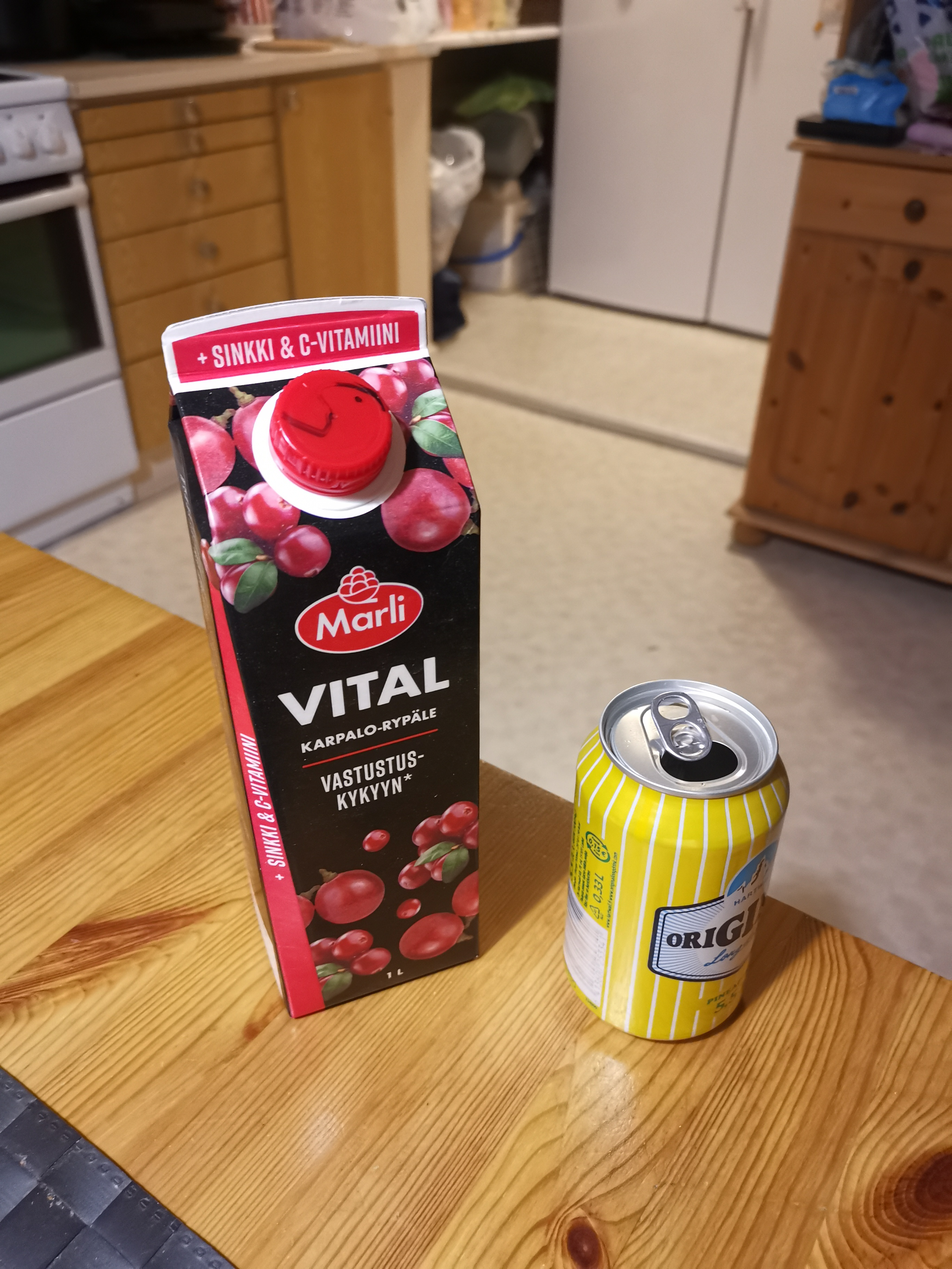Dryckeskartong: (158, 293, 483, 1023)
Pantburk: (560, 676, 793, 1046)
